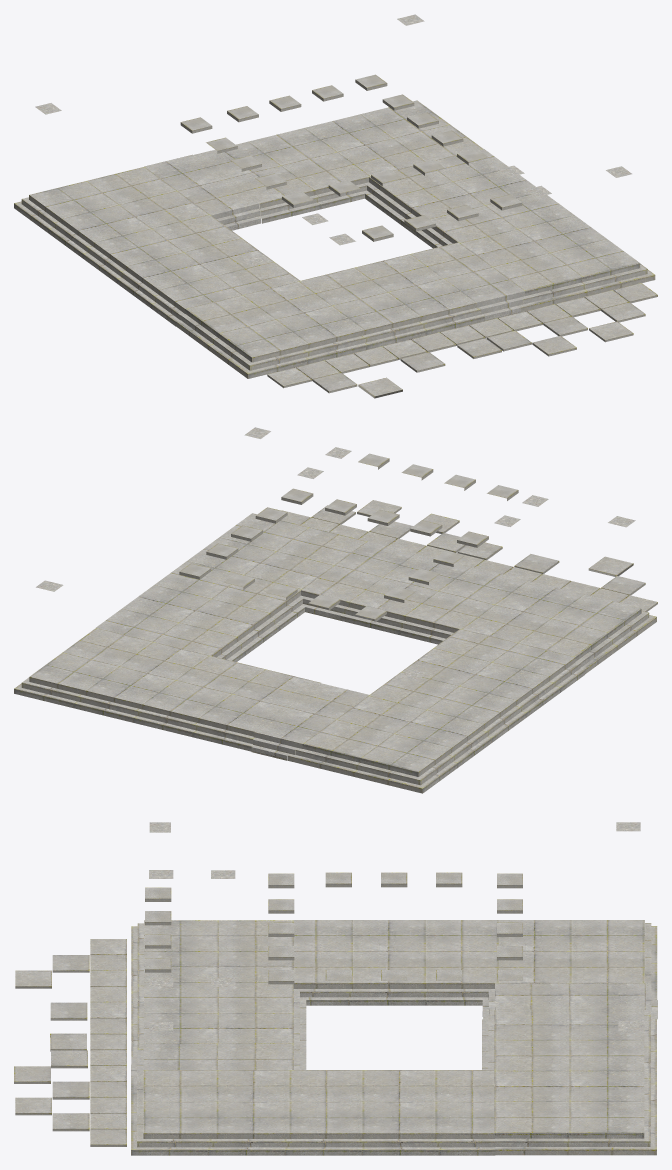
File: hele_gym_tiles.glb
3 renders of one model, top to bottom at view 1: azimuth 30°, elevation 25°; view 2: azimuth 150°, elevation 25°; view 3: azimuth 270°, elevation 25°, orthographic. The views are drawn at different scales.
Parts seen in each view (by area): view 1: gymnasion_tile; view 2: gymnasion_tile; view 3: gymnasion_tile.
Part boxes in pixels (x1,y1,x2,y2): gymnasion_tile: (14,14,657,398); gymnasion_tile: (14,427,657,793); gymnasion_tile: (14,822,657,1155).
Size of the model in its own units: 26.56 by 6.45 by 32.28.
Materials: 1 (1 with a texture image).
